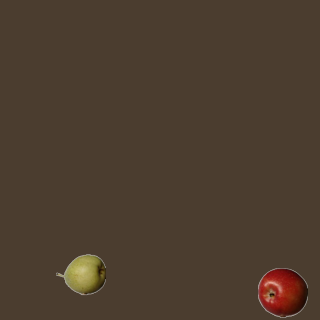Apple Braeburn: (257, 267, 307, 317)
Pear: (55, 249, 105, 299)
